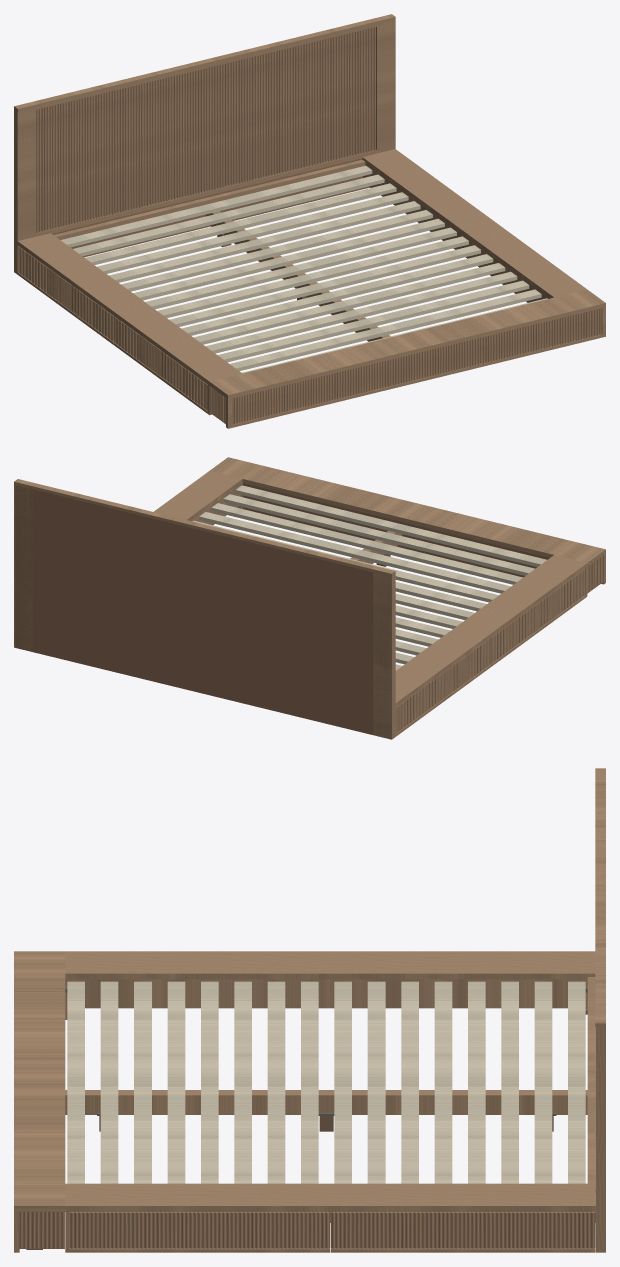
The picture shows the model from 3 angles, top to bottom: view 1: azimuth 30°, elevation 25°; view 2: azimuth 150°, elevation 25°; view 3: azimuth 270°, elevation 25°; orthographic projection. The views are drawn at different scales.
Visible parts, largest first — view 1: Headboard solid rear panel, Footboard wide walnut top rim, Left wide platform rim, Right wide platform rim, Footboard structural core, Pale wood mattress slat 12, Pale wood mattress slat 11, Pale wood mattress slat 03, Pale wood mattress slat 04, Pale wood mattress slat 05, Pale wood mattress slat 13, Pale wood mattress slat 14 (+17 smaller); view 2: Headboard solid rear panel, Footboard wide walnut top rim, Left wide platform rim, Left headboard solid stile, Pale wood mattress slat 15, Pale wood mattress slat 16, Pale wood mattress slat 14, Pale wood mattress slat 13, Headboard top cap, Footboard structural core, Right headboard solid stile, Right wide platform rim (+6 smaller); view 3: Right wide platform rim, Left wide platform rim, Footboard wide walnut top rim, Left inner support rail, Longitudinal center support, Right closed drawer 1, Right closed drawer 2, Pale wood mattress slat 07, Pale wood mattress slat 02, Pale wood mattress slat 05, Pale wood mattress slat 10, Pale wood mattress slat 13 (+17 smaller).
Boxes of the visible parts, bbox=[...] form: Headboard solid rear panel: bbox=[38, 27, 373, 257]; Footboard wide walnut top rim: bbox=[209, 289, 605, 399]; Left wide platform rim: bbox=[17, 233, 242, 385]; Right wide platform rim: bbox=[362, 149, 586, 298]; Footboard structural core: bbox=[211, 309, 599, 423]; Pale wood mattress slat 12: bbox=[193, 263, 505, 344]; Pale wood mattress slat 11: bbox=[181, 254, 493, 335]; Pale wood mattress slat 03: bbox=[85, 183, 396, 264]; Pale wood mattress slat 04: bbox=[97, 192, 408, 273]; Pale wood mattress slat 05: bbox=[109, 201, 420, 282]; Pale wood mattress slat 13: bbox=[205, 271, 517, 353]; Pale wood mattress slat 14: bbox=[217, 280, 529, 362]; Headboard solid rear panel: bbox=[15, 485, 390, 737]; Footboard wide walnut top rim: bbox=[210, 457, 605, 566]; Left wide platform rim: bbox=[395, 555, 587, 706]; Left headboard solid stile: bbox=[373, 572, 395, 739]; Pale wood mattress slat 15: bbox=[223, 494, 534, 575]; Pale wood mattress slat 16: bbox=[235, 485, 546, 566]; Pale wood mattress slat 14: bbox=[211, 503, 522, 584]; Pale wood mattress slat 13: bbox=[199, 512, 510, 593]; Headboard top cap: bbox=[14, 479, 395, 576]; Footboard structural core: bbox=[242, 483, 600, 591]; Right headboard solid stile: bbox=[14, 485, 32, 651]; Right wide platform rim: bbox=[154, 471, 242, 520]; Right wide platform rim: bbox=[65, 1183, 595, 1211]; Left wide platform rim: bbox=[65, 951, 595, 979]; Footboard wide walnut top rim: bbox=[14, 951, 65, 1211]; Left inner support rail: bbox=[69, 979, 587, 1008]; Longitudinal center support: bbox=[65, 1090, 587, 1114]; Right closed drawer 1: bbox=[331, 1212, 595, 1248]; Right closed drawer 2: bbox=[69, 1212, 330, 1248]; Pale wood mattress slat 07: bbox=[367, 981, 385, 1183]; Pale wood mattress slat 02: bbox=[534, 981, 552, 1183]; Pale wood mattress slat 05: bbox=[434, 981, 452, 1183]; Pale wood mattress slat 10: bbox=[267, 981, 285, 1183]; Pale wood mattress slat 13: bbox=[167, 981, 185, 1183].
Bounding box in the file's own units: 2.35 × 1 × 2.31.
Materials: 5 (2 with a texture image).
